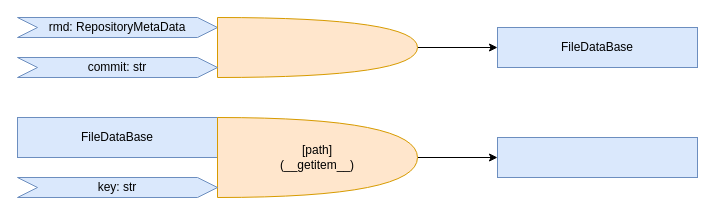
Some shapes in this 715 by 215 pixel diagram are drawn without their labels. The centre of each missing label's shape, as x and y in pixels:
File content: List[str]: point (597, 157)
FileDataBase() (__init__): point (317, 47)
